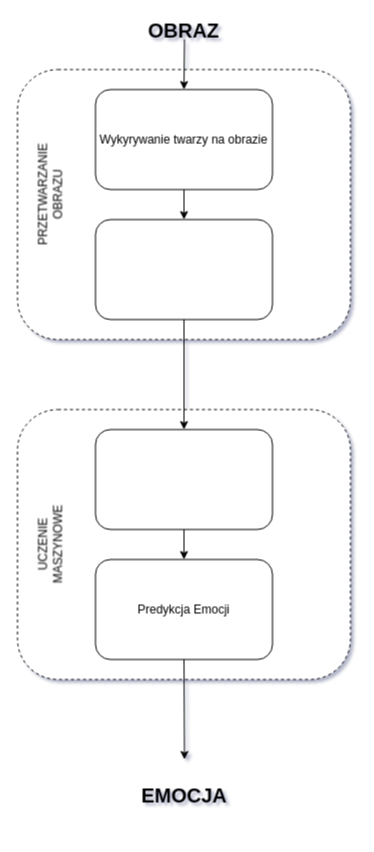
Some shapes in this 374 by 852 pixel diagram are drawn without their labels. Each missing label, with the centre of its shape:
"Ekstrakcja Cech Twarzy" goes at (183,269).
"Wydzielenie najbardziej istotnych Cech Twarzy" goes at (183,479).
